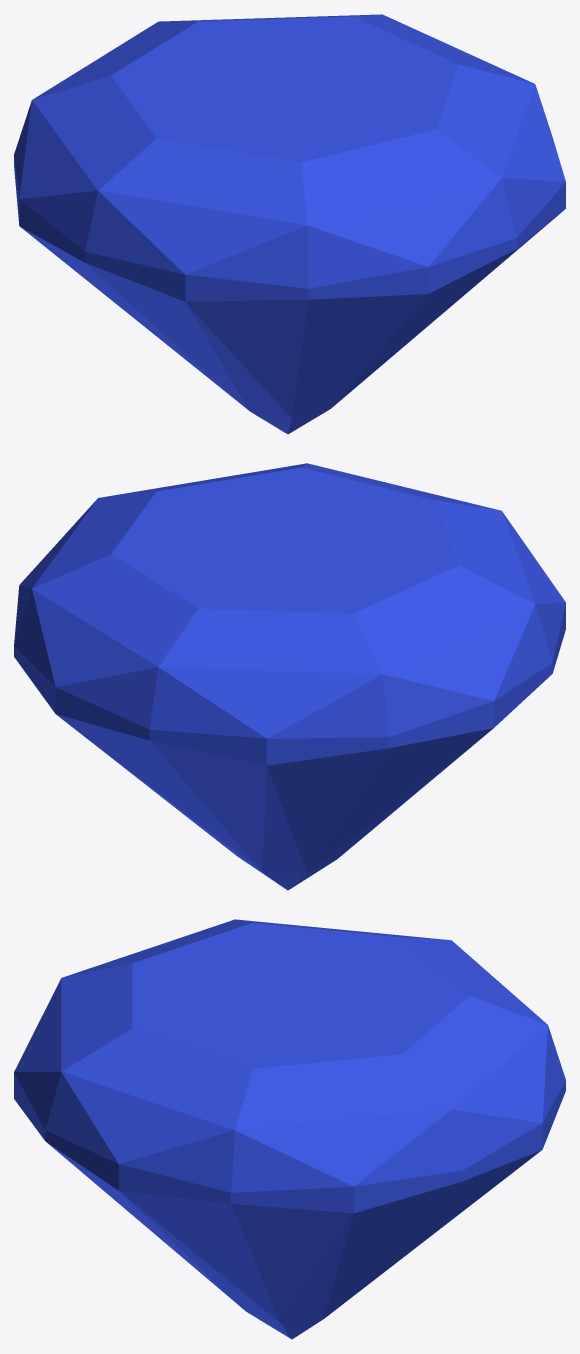
The model's file is diamond.fbx.
The picture shows the model from 3 angles, top to bottom: view 1: azimuth 30°, elevation 25°; view 2: azimuth 150°, elevation 25°; view 3: azimuth 270°, elevation 25°; orthographic projection.
Visible parts, largest first — view 1: Cylinder; view 2: Cylinder; view 3: Cylinder.
Boxes of the visible parts, x1,y1,x2,y2 form: Cylinder: (14,14,565,434); Cylinder: (14,463,565,890); Cylinder: (14,919,565,1339).
Size of the model in its own units: 198 by 138 by 201.
